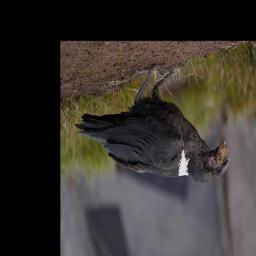Crow: (73, 60, 231, 188)
